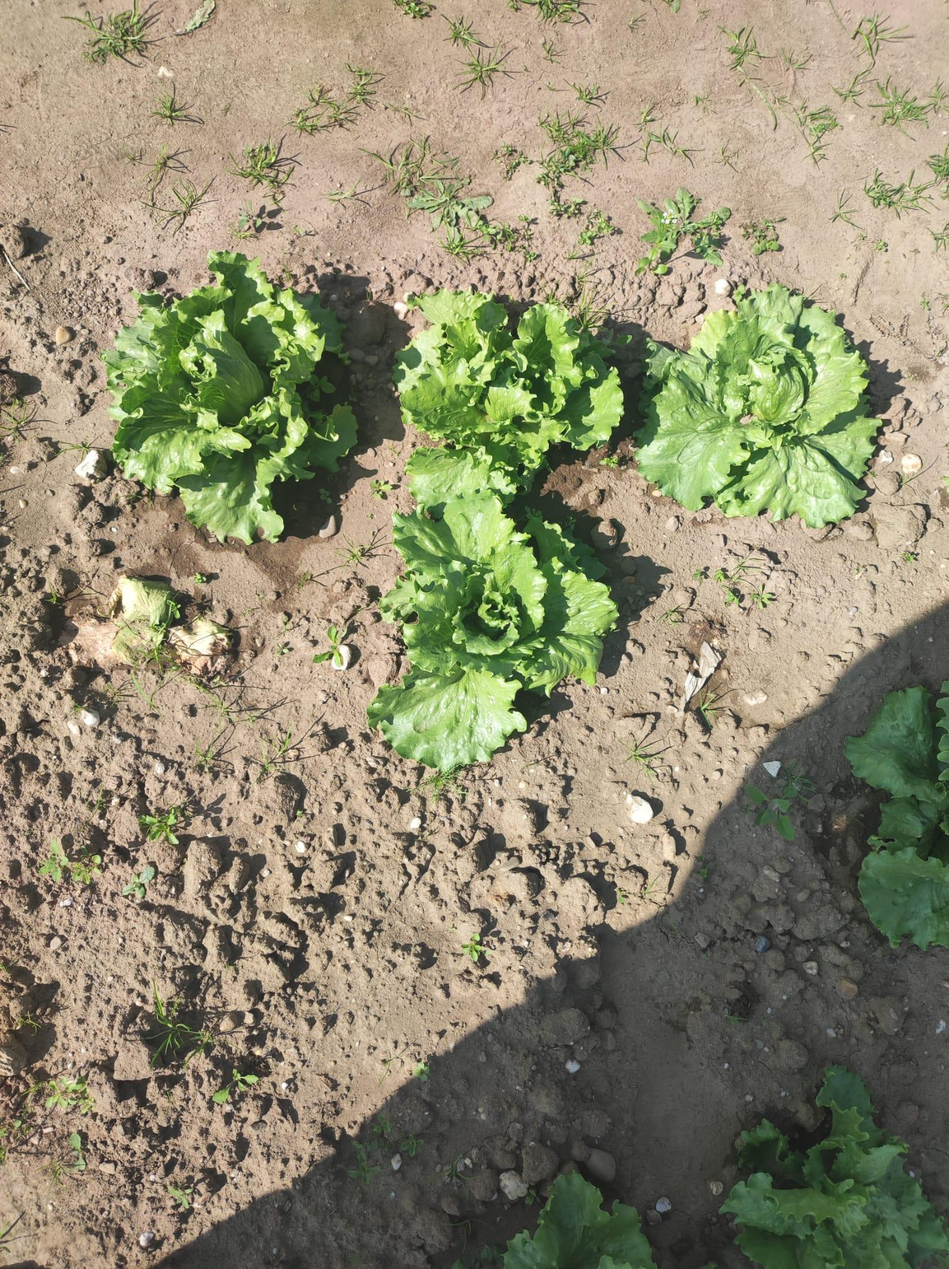Healthy: (101, 252, 356, 543), (368, 491, 618, 773), (636, 283, 881, 526), (393, 288, 623, 507), (721, 1068, 949, 1269), (846, 683, 949, 951), (504, 1175, 657, 1269)
